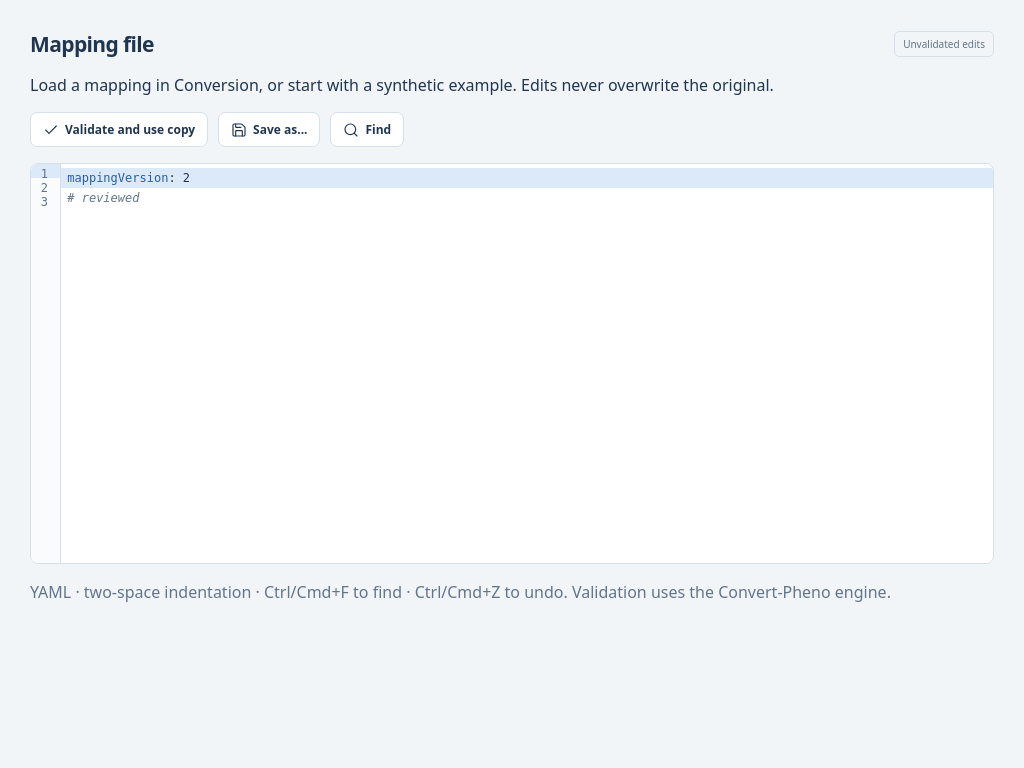
renders YAML with line numbers, edits and sends exact text for validation and save
Expected: the element with class "cm-lineNumbers" is shown, [31,164,51,209]
What coordinates should you click on to do the following:
click the button "Validate and use copy"
I would click on:
 (119, 130)
Its box is [30,112,208,147].
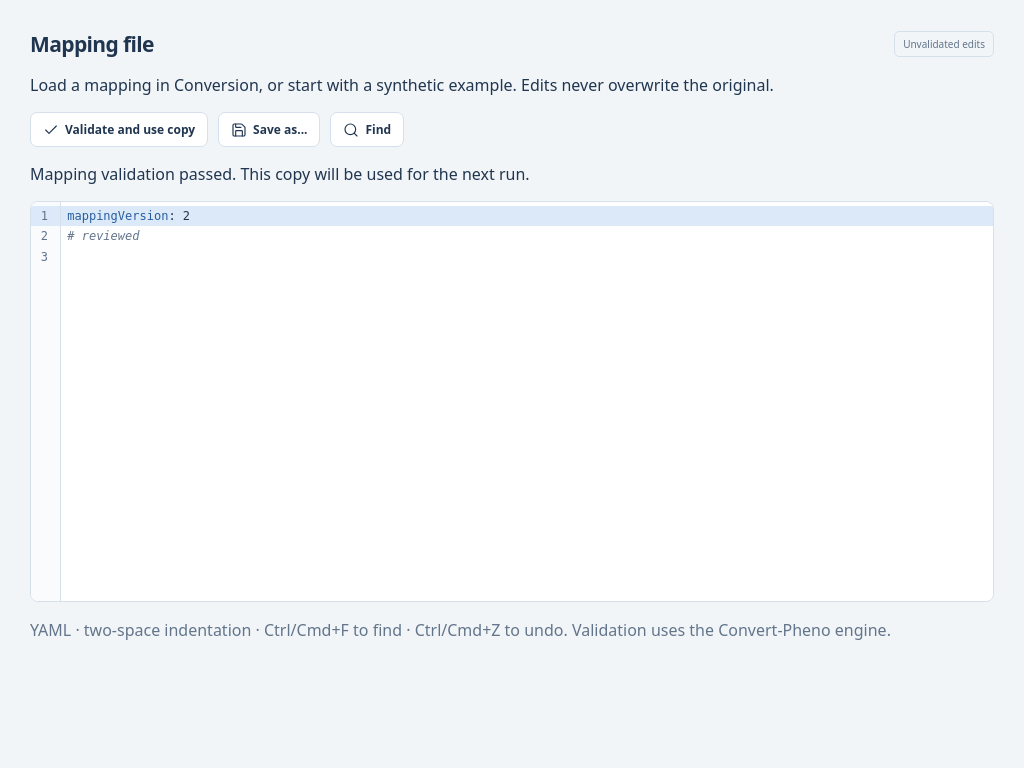
Expected: the message shows "validation passed", [30,163,530,185]
What coordinates should you click on to do the following:
click the button "Save as..."
I would click on:
 (269, 130)
Its box is [218,112,320,147].
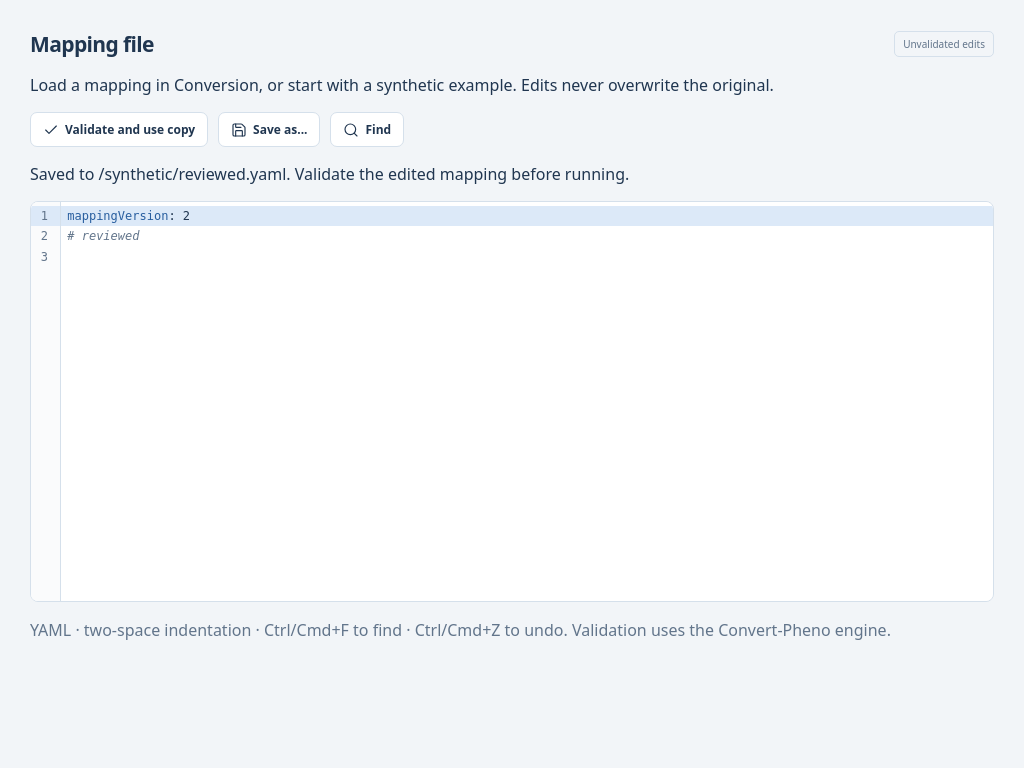
Expected: the text "Saved to /synthetic/reviewed.yaml. Validate the edited mapping before running." is shown, [30,163,629,185]
